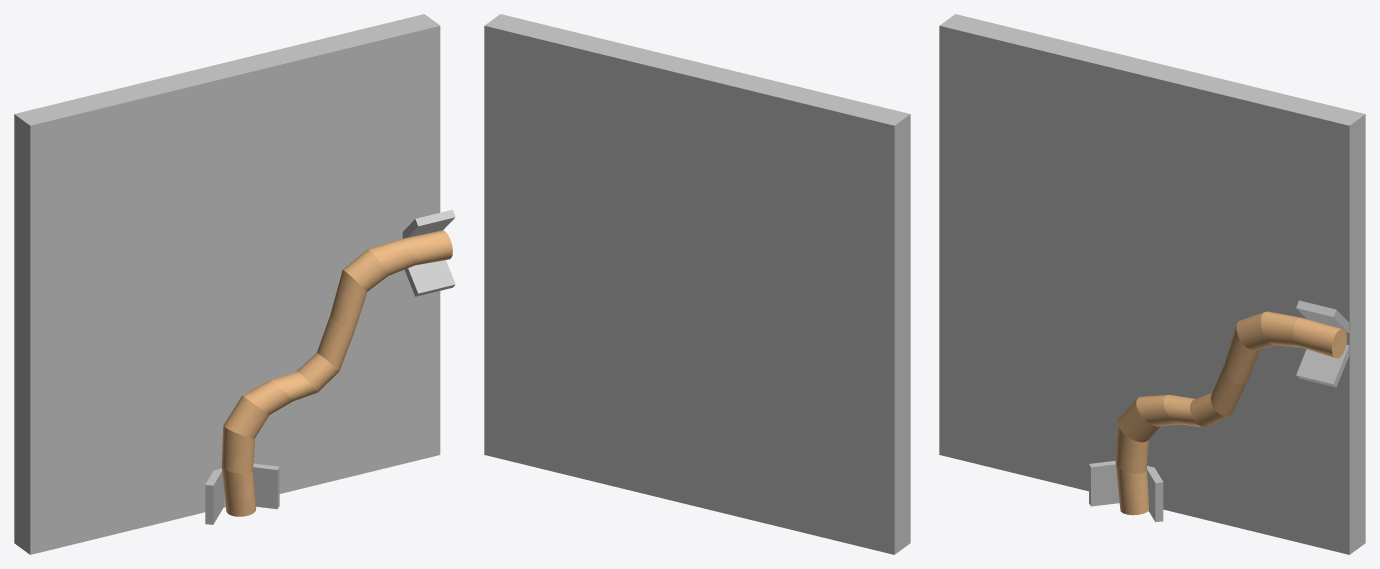
The model's file is Wire_L.fbx.
The picture shows the model from 3 angles, left to right: view 1: azimuth 30°, elevation 25°; view 2: azimuth 150°, elevation 25°; view 3: azimuth 330°, elevation 25°; orthographic projection.
Visible parts, largest first — view 1: Wire L; view 2: Wire L; view 3: Wire L.
Part boxes in pixels (x1,y1,x2,y2): Wire L: [14, 14, 455, 554]; Wire L: [484, 14, 910, 554]; Wire L: [939, 14, 1365, 554].
Size of the model in its own units: 200 by 200 by 26.74.
